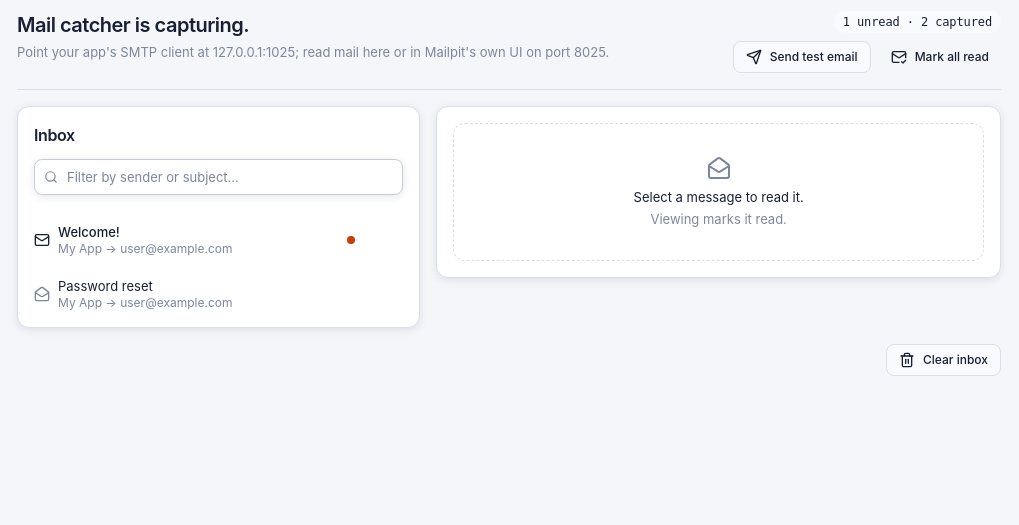
MailPage › clears the filter from the filter-miss empty state (§38)
Type "no-such-message" into the field named "Filter messages" at (219, 177), box [34, 159, 403, 195]
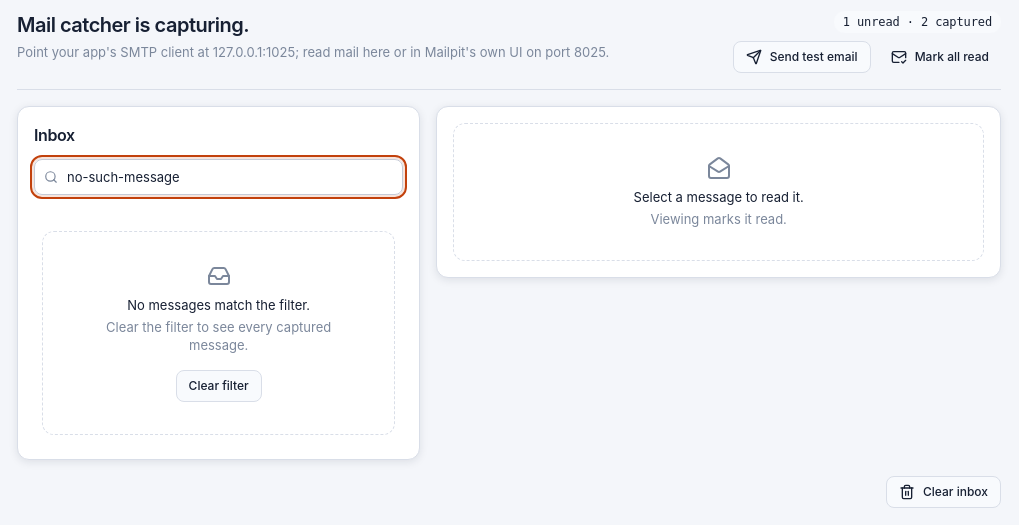
expect the text "No messages match the filter." is shown: met, box [127, 297, 310, 313]
Click the button "Clear filter" at (219, 386), box [176, 370, 262, 402]
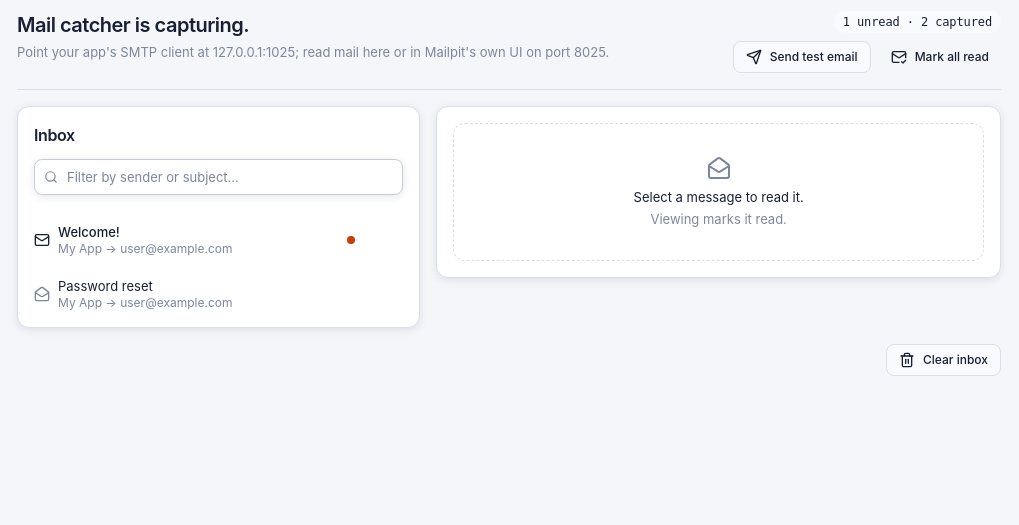
expect the text "Welcome!" is shown: met, box [58, 224, 120, 240]
expect the text "No messages match the filter." is gone: met
